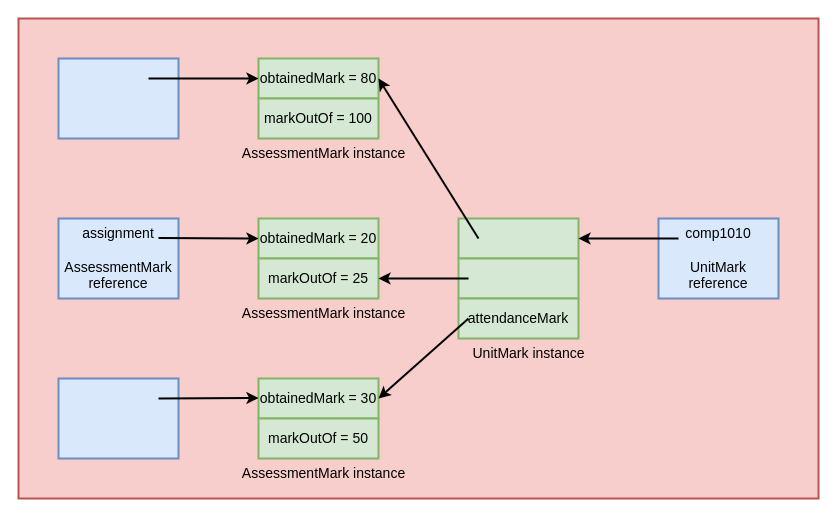
Image size: 836x516. Some labels were removed from this diagram. The centre of each missing label's shape, as x and y in pixels:
"assignmentMark" goes at (518,278).
"attendance AssessmentMark reference" goes at (118,418).
"exam AssessmentMark reference" goes at (118,98).
"examMark" goes at (518,238).
